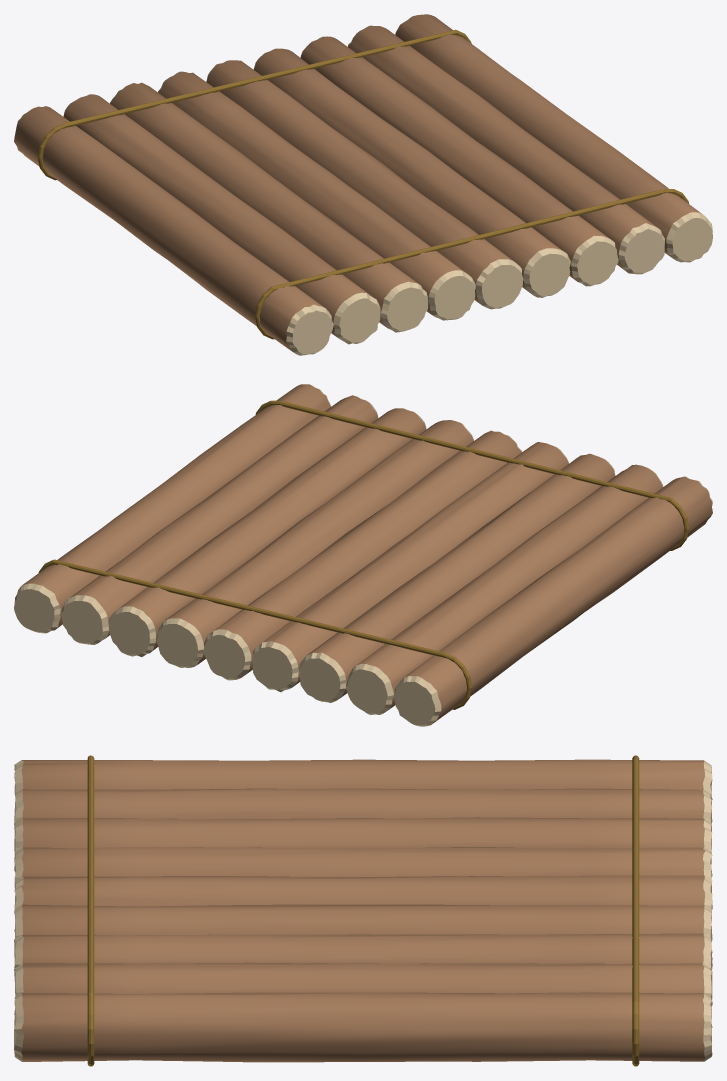
The model's file is raft.gltf.
The picture shows the model from 3 angles, top to bottom: view 1: azimuth 30°, elevation 25°; view 2: azimuth 150°, elevation 25°; view 3: azimuth 270°, elevation 25°; orthographic projection. The views are drawn at different scales.
Parts seen in each view (by area): view 1: Cylinder, Torus; view 2: Cylinder, Torus; view 3: Cylinder, Torus.
Part boxes in pixels (x1,y1,x2,y2): Cylinder: (14, 14, 712, 355); Torus: (37, 29, 688, 339); Cylinder: (14, 384, 712, 726); Torus: (38, 400, 689, 709); Cylinder: (14, 759, 712, 1062); Torus: (87, 755, 639, 1066).
Bounding box in the file's own units: 1.85 × 0.23 × 2.05.
